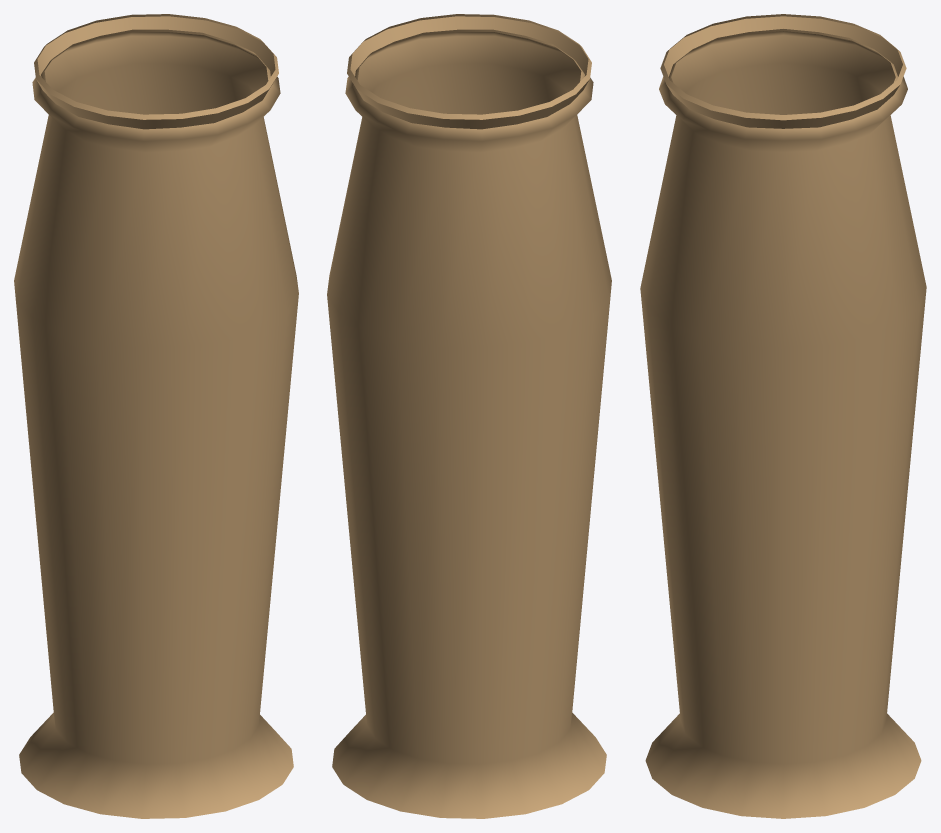
Rendered from pottery04.fbx.
3 views of the same model, side by side, from view 1: azimuth 30°, elevation 25°; view 2: azimuth 150°, elevation 25°; view 3: azimuth 270°, elevation 25° (orthographic).
Visible parts, largest first — view 1: pCylinder5; view 2: pCylinder5; view 3: pCylinder5.
Boxes of the visible parts, x1,y1,x2,y2 form: pCylinder5: (14, 14, 298, 818); pCylinder5: (327, 14, 611, 818); pCylinder5: (640, 14, 926, 818).
Size of the model in its own units: 1.26 by 3.39 by 1.26.
